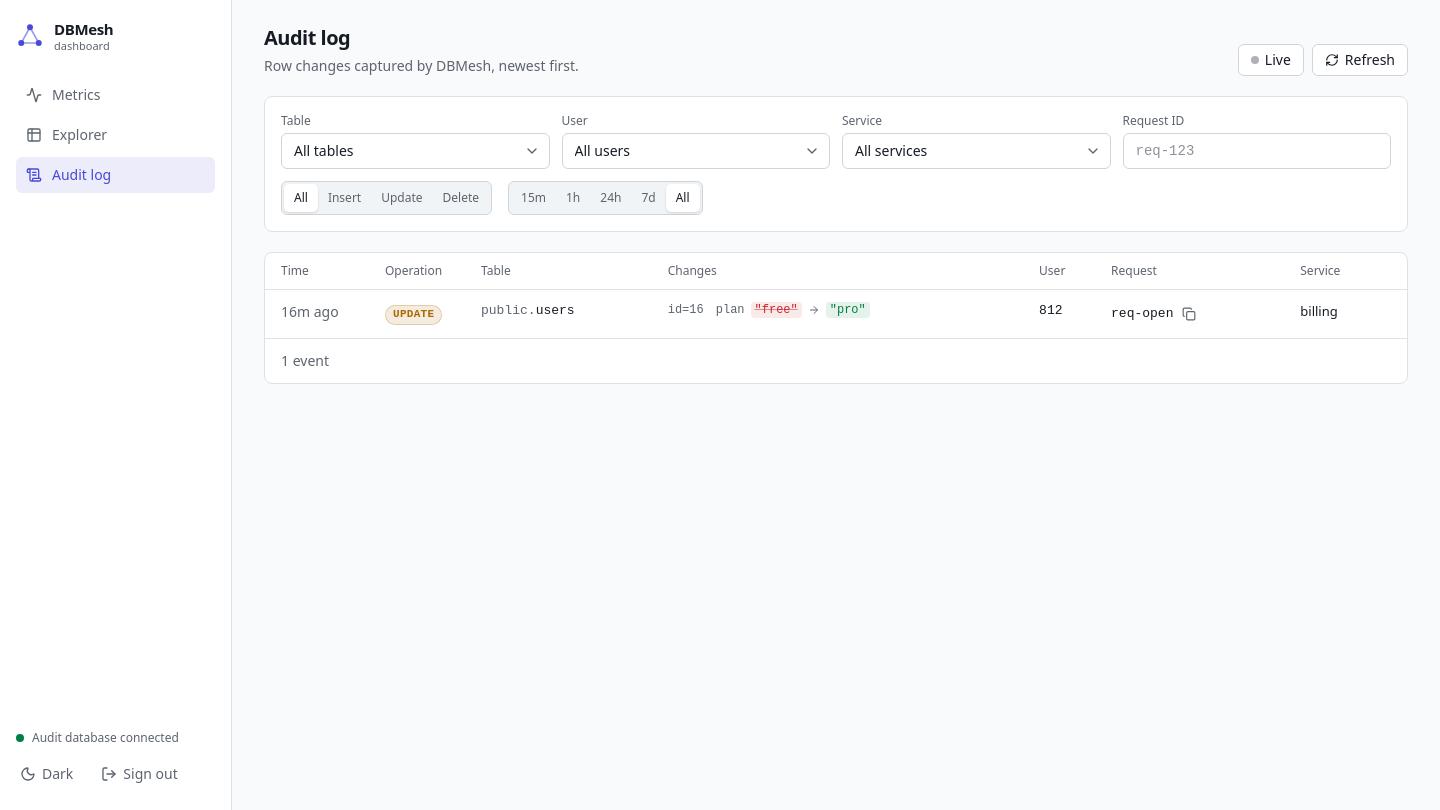
audit log › opens an event in a drawer with the field diff and closes with Escape
The image size is (1440, 810).
Click the row named "UPDATE public.users, 16m ago. Open details".
click(836, 314)  # box [265,290,1407,338]
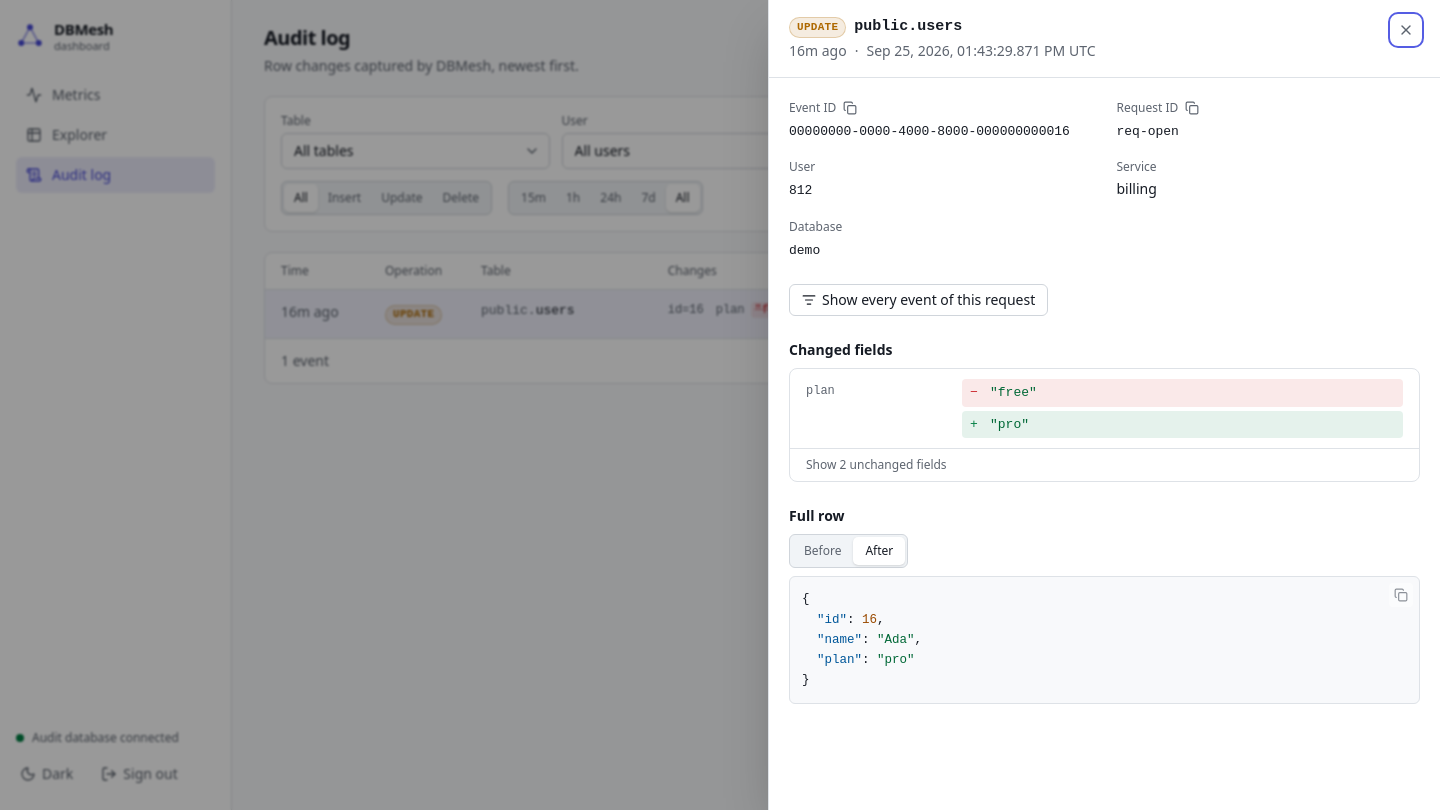
expect the dialog shows "public.users": met, box [768,0,1439,809]
expect the heading "Changed fields" is shown: met, box [789,340,892,359]
expect the dialog shows "req-open": met, box [1116,124,1179,138]
Click the button "Show 2 unchanged fields".
click(821, 465)  # box [790,448,1419,481]
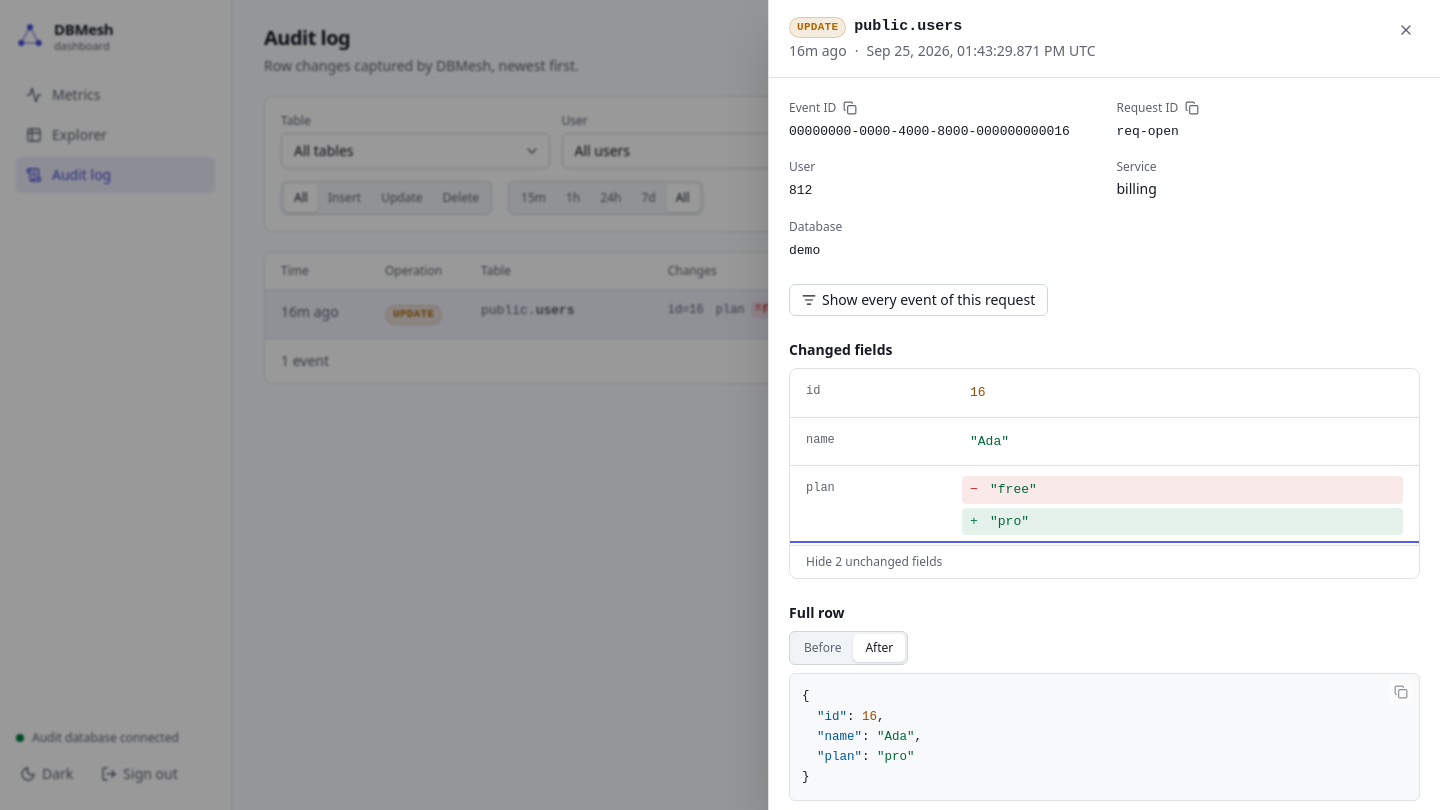
expect the text "name" is shown: met, box [806,433,835,447]
raw row images
Click the tab "Before".
click(823, 648)  # box [792,634,854,662]
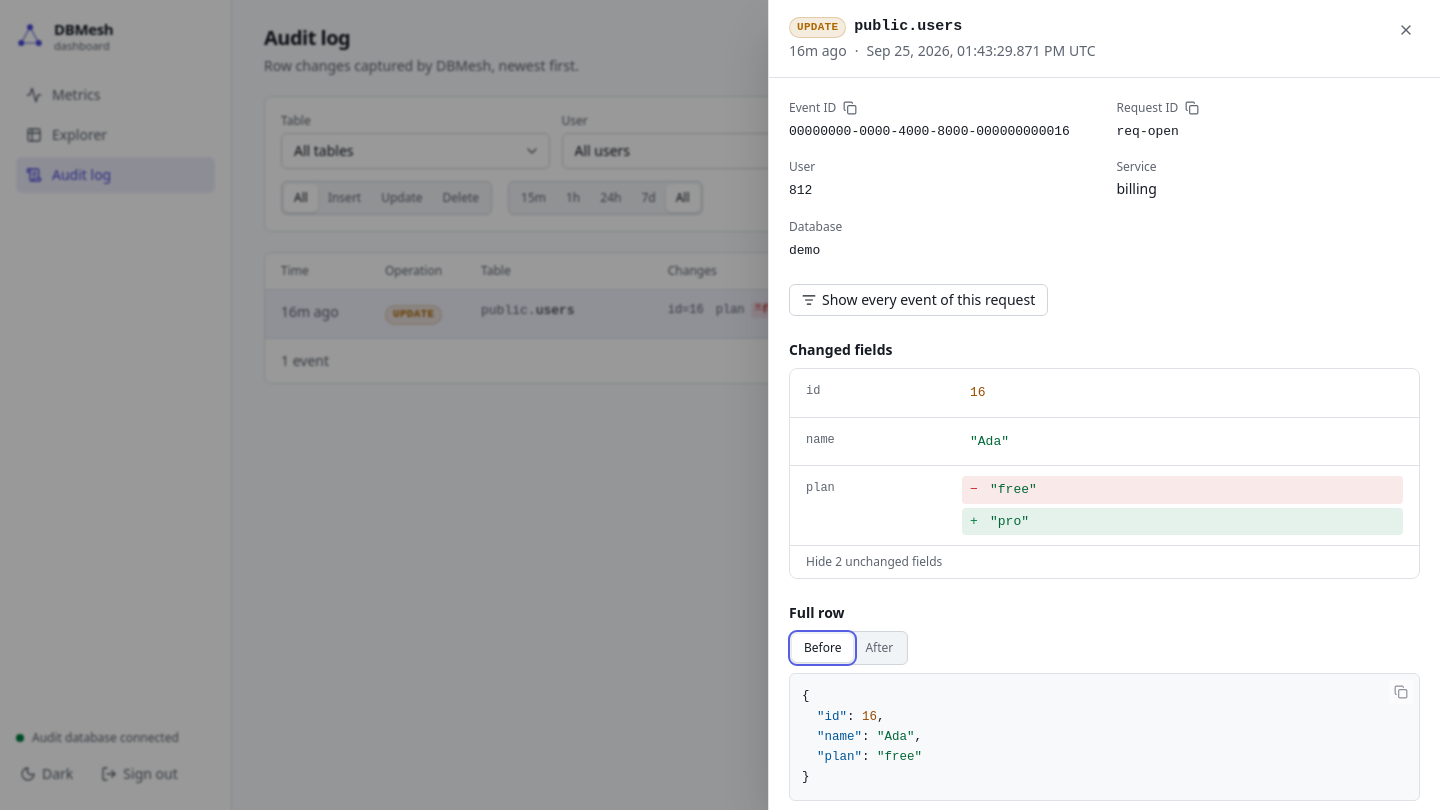
expect the element named "Row before the change" shows "\"plan\": \"free\"": met, box [802,689,922,784]
Press Escape
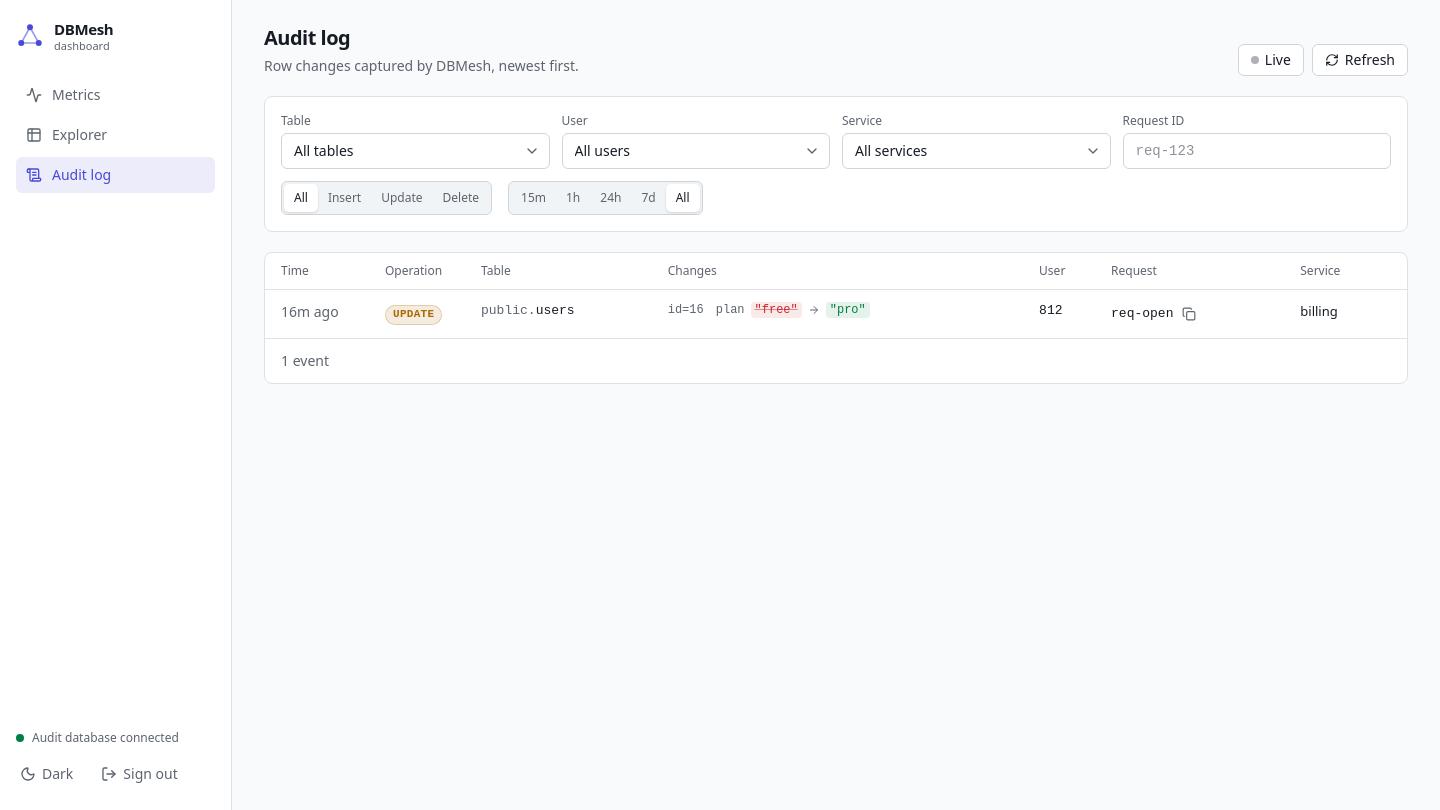
expect the dialog is gone: met
